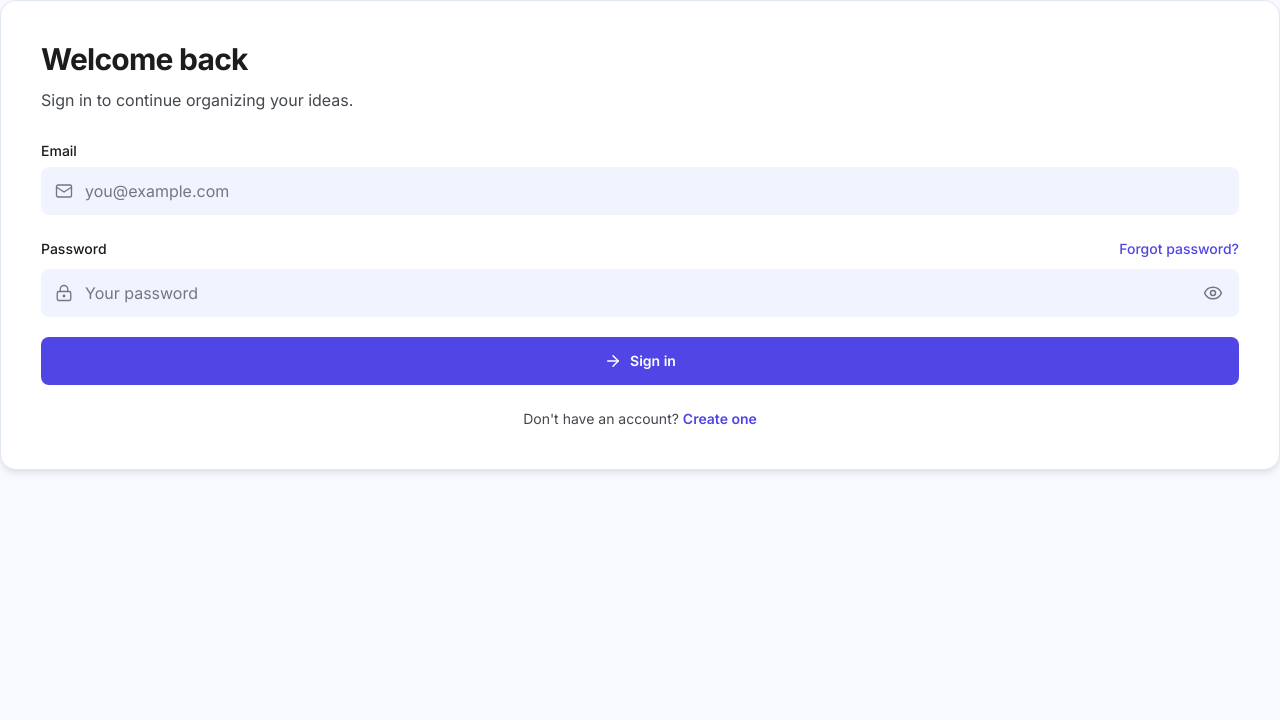
Test case: LoginPage › shows validation errors and does not submit an empty form
Click the button "Sign in".
click(640, 360)  # box top-left (41, 336), bottom-right (1239, 384)
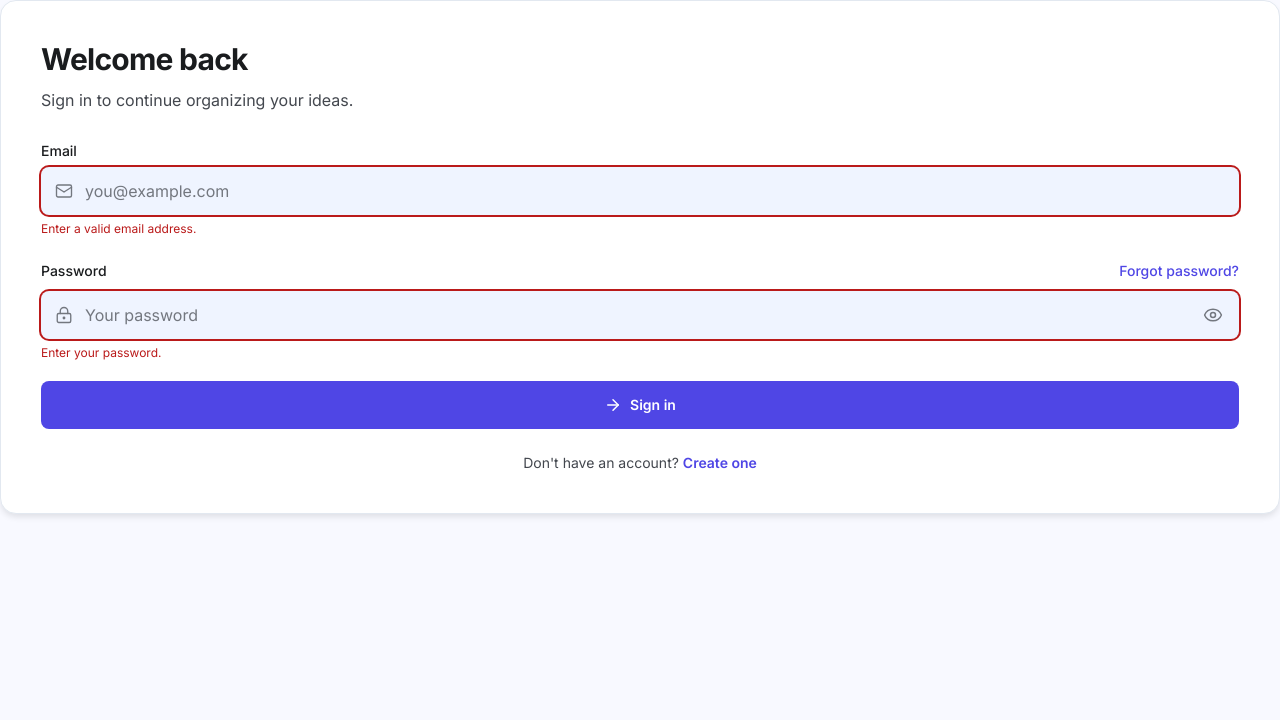
Check: the text "Enter a valid email address." is shown, box top-left (41, 220), bottom-right (196, 236)
Check: the text "Enter your password." is shown, box top-left (41, 344), bottom-right (162, 360)
